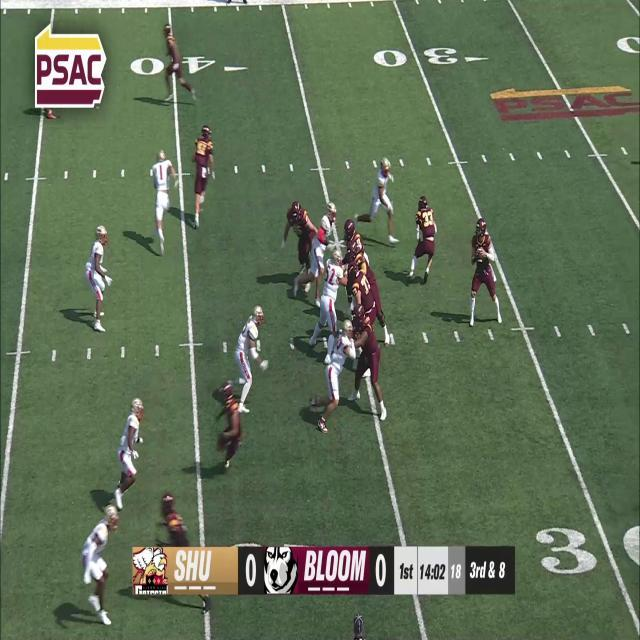football: (476, 246, 484, 264)
